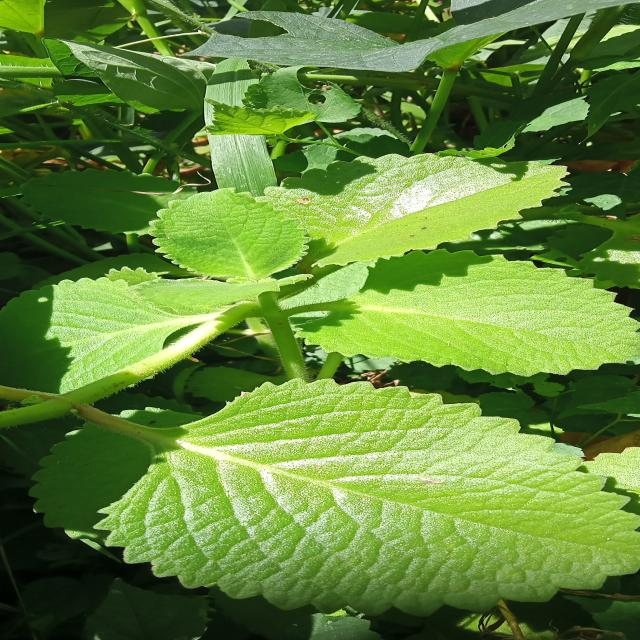Oregano: (0, 376, 640, 638), (0, 143, 640, 374)
